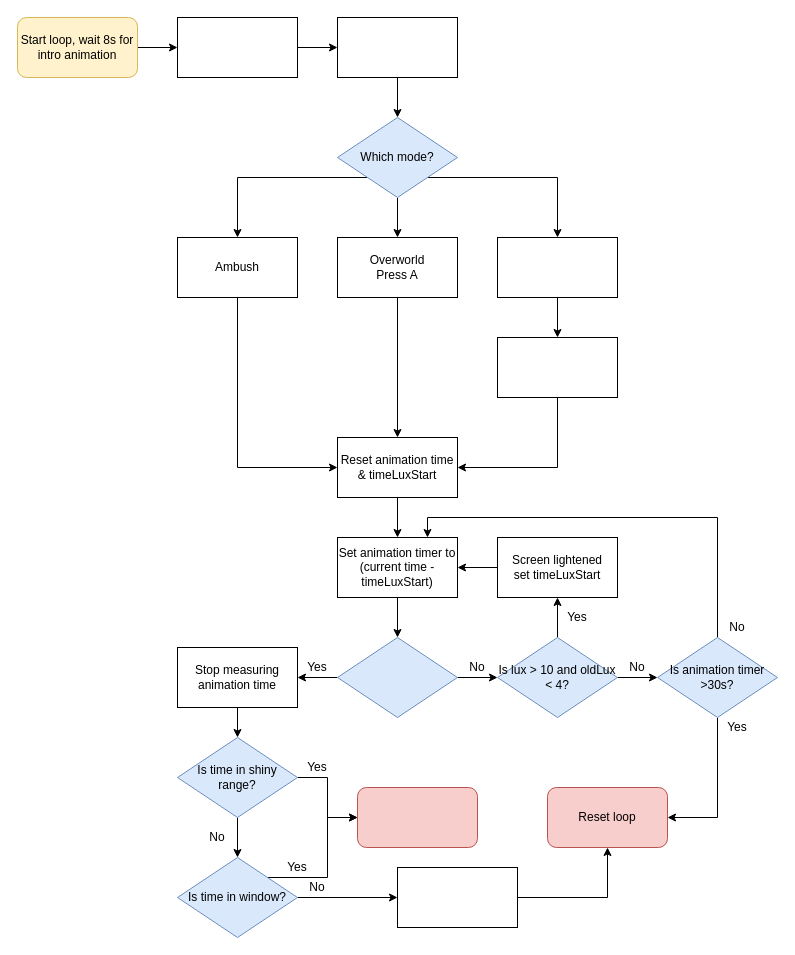
Image size: 795x955. Some labels were removed from this diagram. The centre of each missing label's shape, as x and y in pixels:
"Found something! Pause & send a text" goes at (417,817).
"Honey Press X, wait 1s" goes at (557,267).
"Is lux > 49.0?" goes at (397,677).
"Press A, wait 3s" goes at (237,47).
"Press A, wait 5s" goes at (397,47).
"Select Honey in the Bag (takes 5s)" goes at (557,367).
"Store loop length in table" goes at (457,897).
